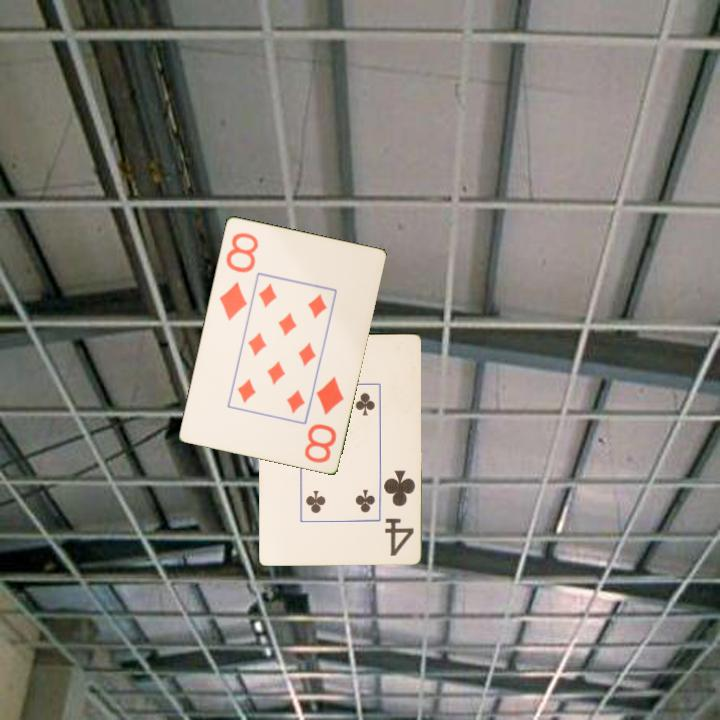4c: (380, 466, 417, 558)
8d: (300, 373, 346, 466), (216, 229, 261, 323)
